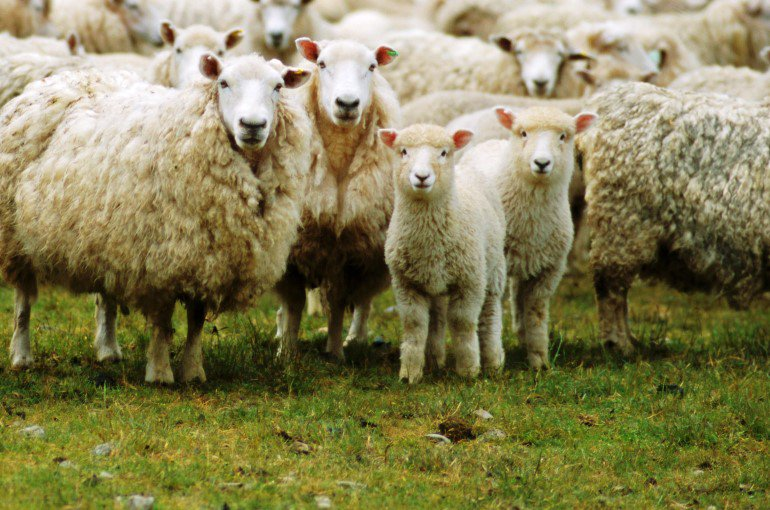sheep: (40, 37, 306, 386), (581, 78, 770, 371), (382, 114, 545, 438), (290, 30, 402, 416), (442, 8, 636, 150), (496, 113, 598, 380), (39, 12, 227, 138)
